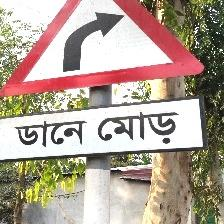Right-turn: (1, 0, 206, 165)
